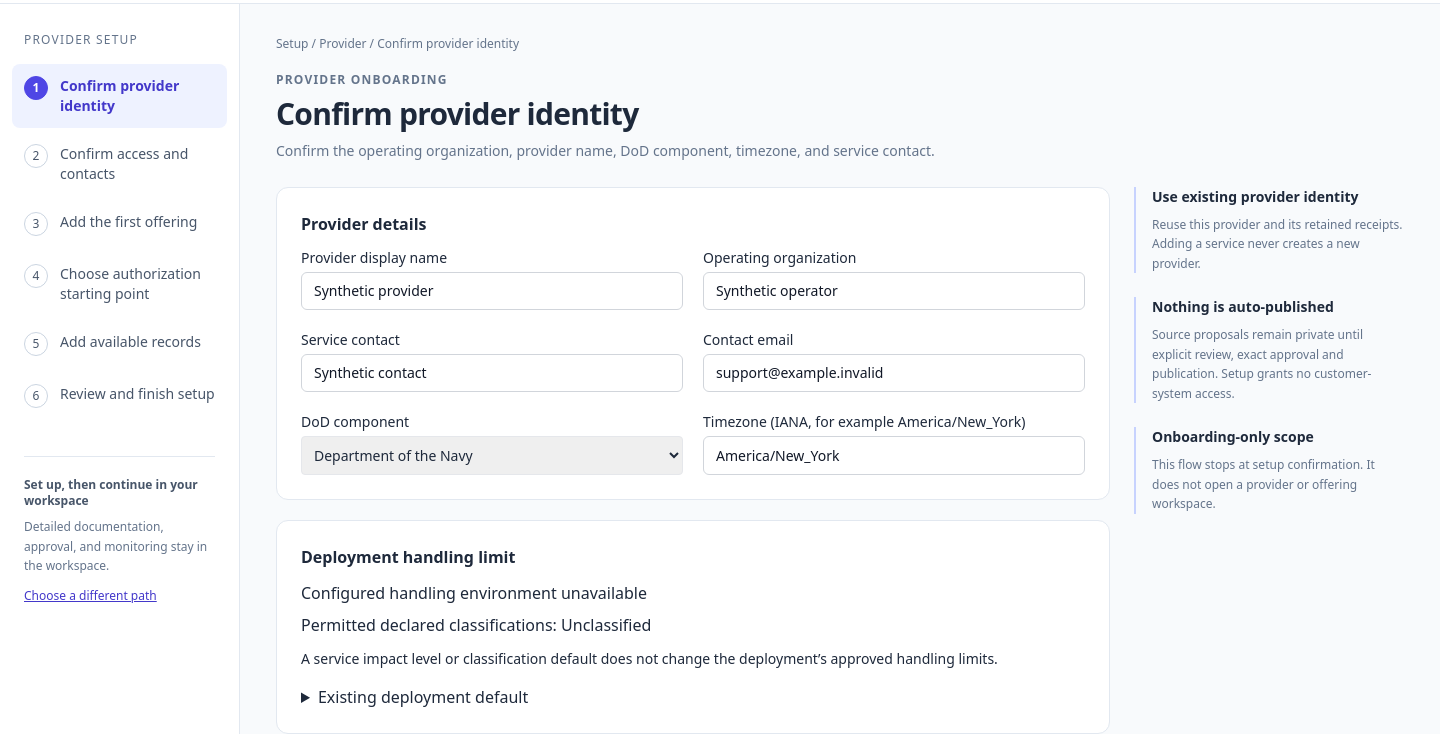
Test: canonical provider setup handoff › offers optional receipt-only sources without requiring offering or boundary creation
Expected: the heading "Confirm provider identity" is shown, [276,93,638,134]
Click the button "5 Add available records" at (120, 344), box [12,320,227,368]
(page scrolled)
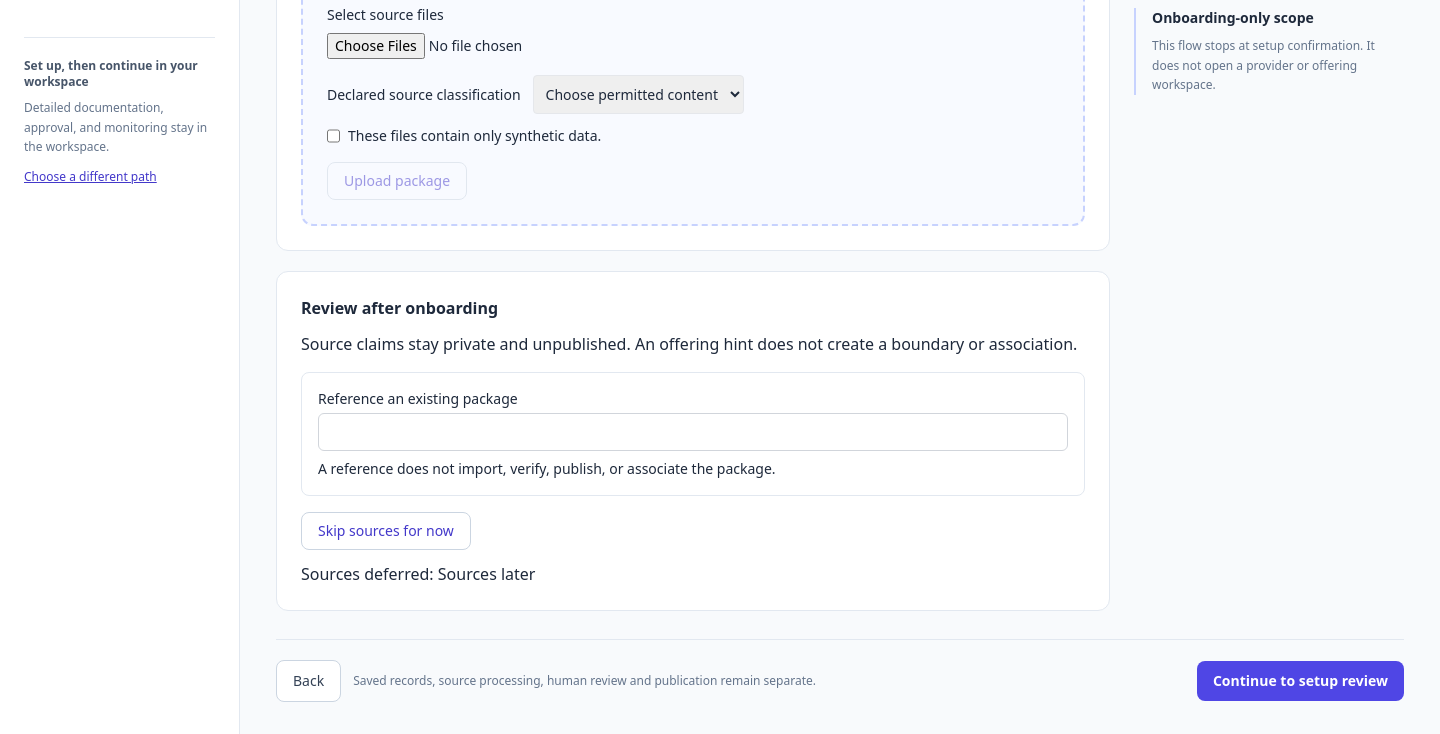
Expected: the button "Skip sources for now" is enabled, [301,512,471,550]
